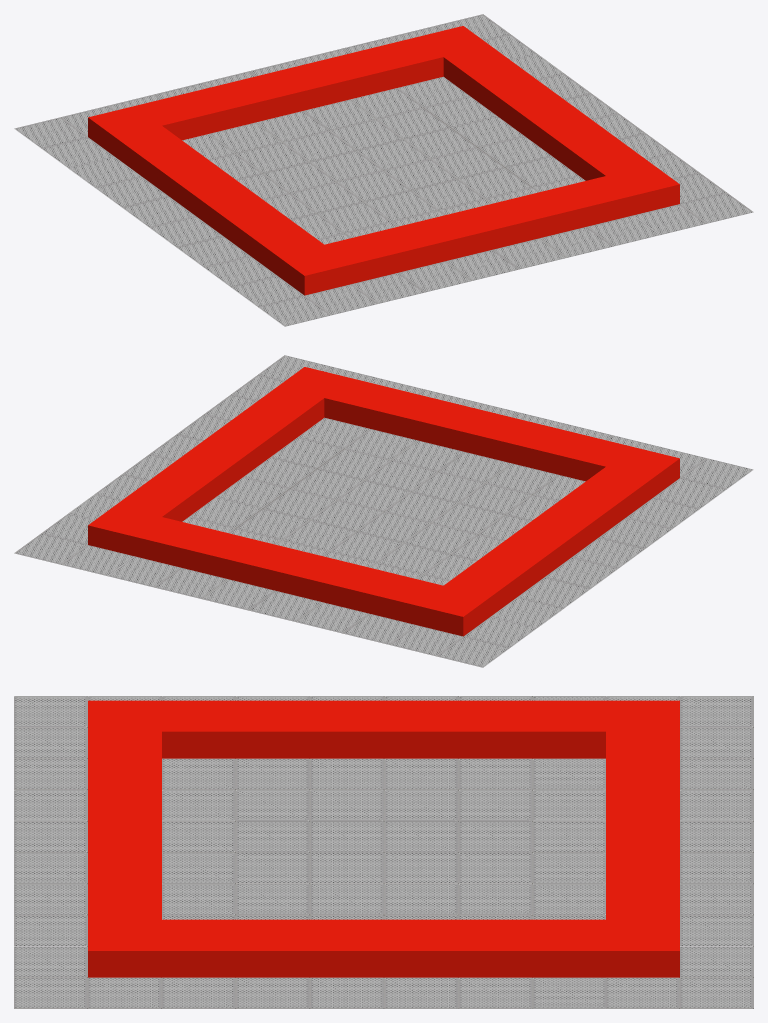
The model's file is RoomCeiling.fbx.
3 views of the same model, one above another, from view 1: azimuth 30°, elevation 25°; view 2: azimuth 150°, elevation 25°; view 3: azimuth 270°, elevation 25° (orthographic). The views are drawn at different scales.
Visible parts, largest first — view 1: MiniRoomCeiling; view 2: MiniRoomCeiling; view 3: MiniRoomCeiling.
Part boxes in pixels (left/top/right/bottom): MiniRoomCeiling: left=14, top=14, right=753, bottom=326; MiniRoomCeiling: left=14, top=355, right=753, bottom=667; MiniRoomCeiling: left=14, top=696, right=753, bottom=1008.
Size of the model in its own units: 3186 by 127 by 3184.
